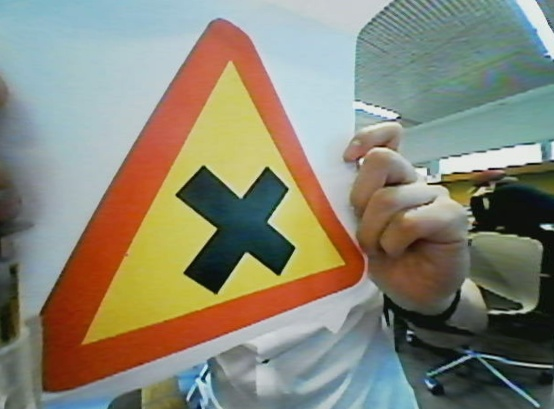junction: (47, 18, 376, 376)
